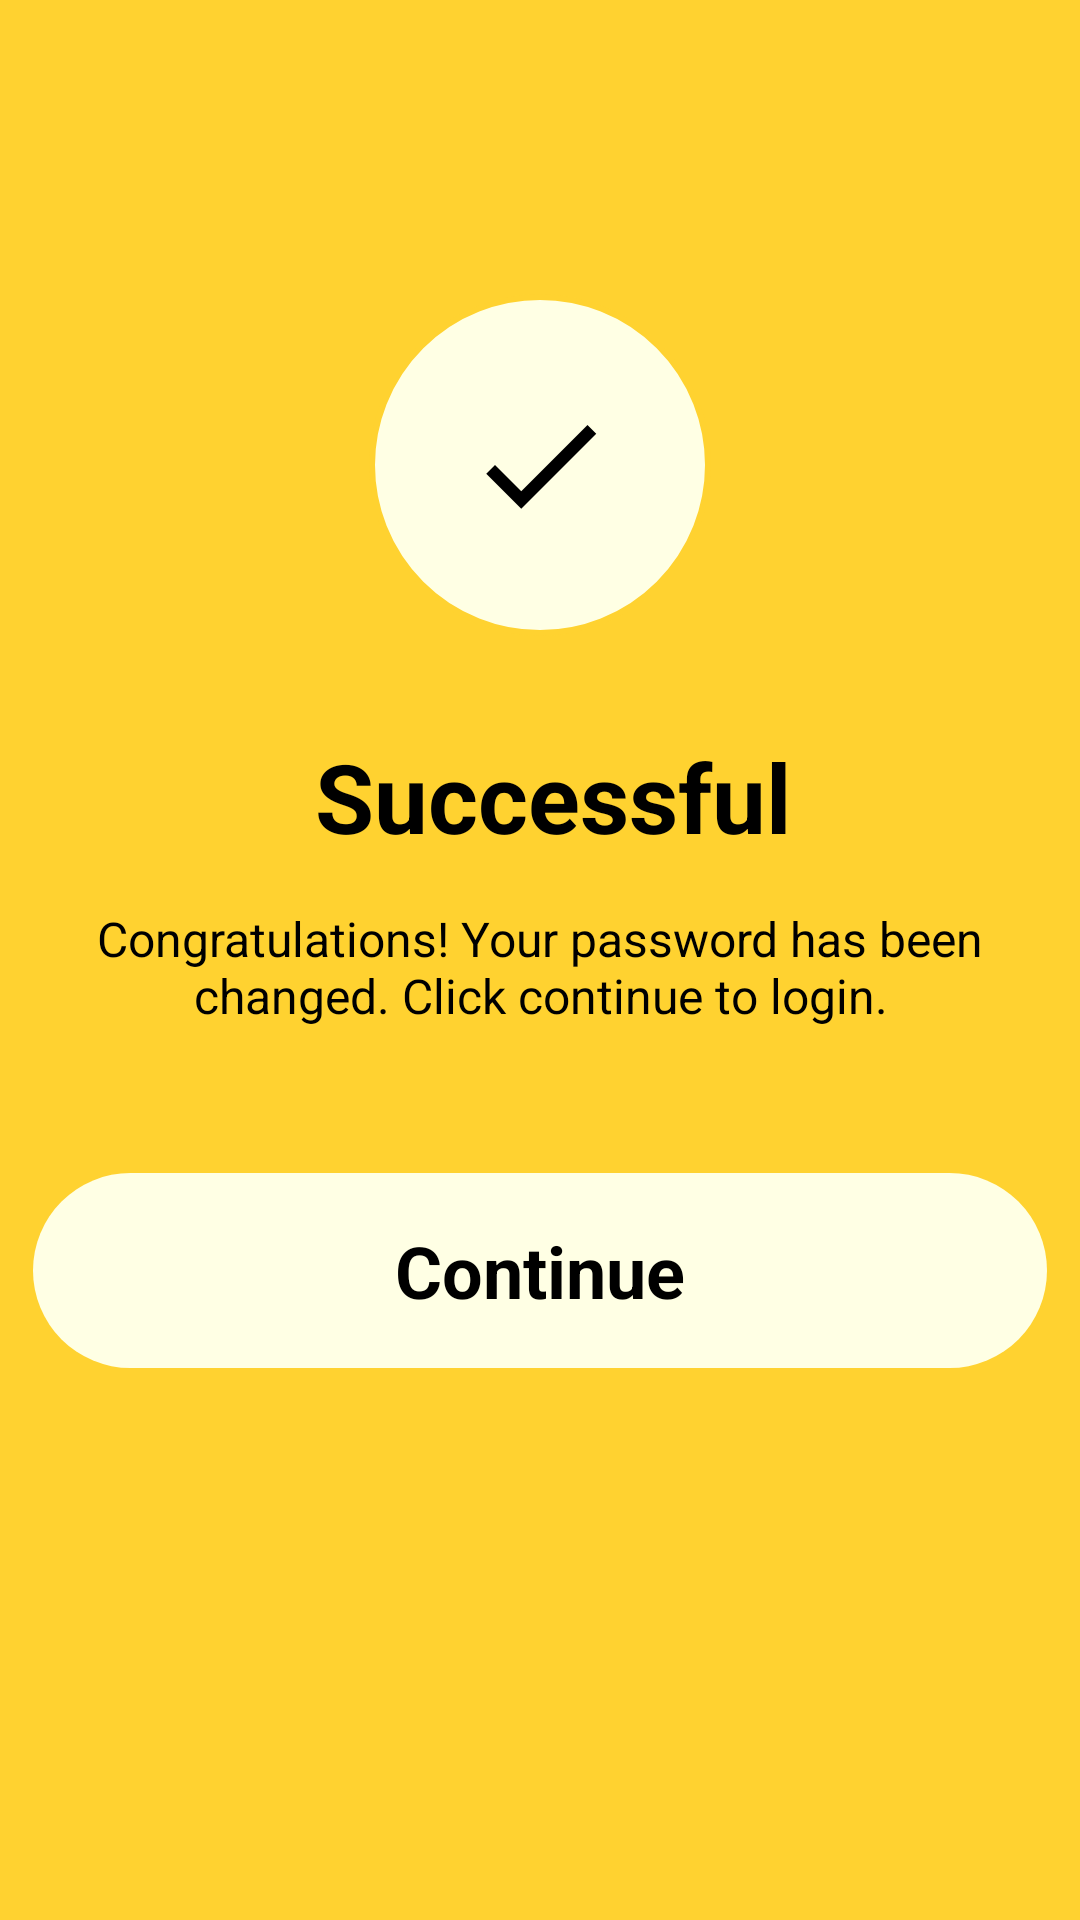

Named icons in this screenshot (1080x1920) and their centers, (x,y):
check: (541,467)
